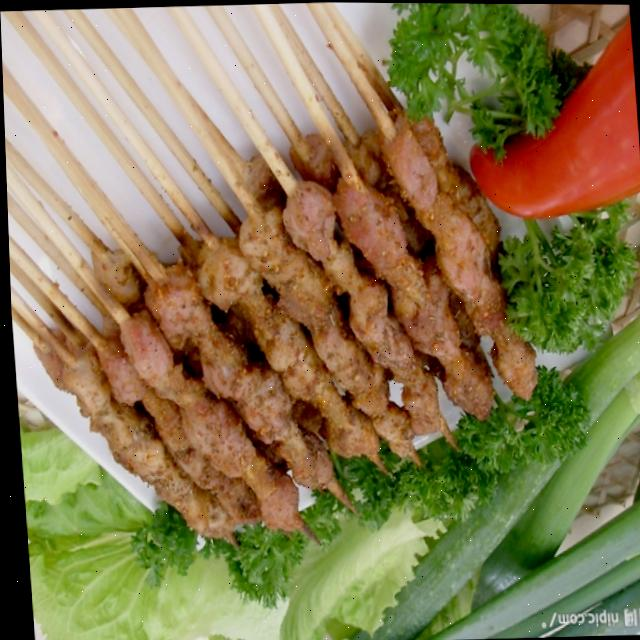烧串烤肉: (0, 0, 611, 603)
